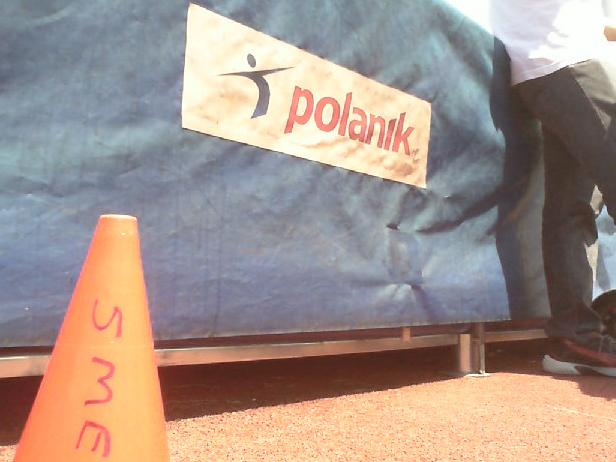0 cone: (4, 214, 173, 462)
